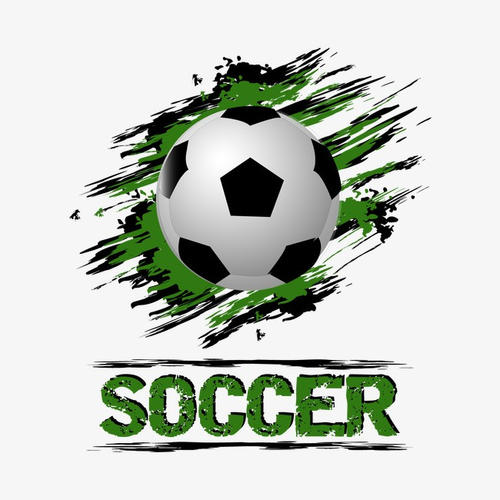football: (157, 106, 343, 294)
